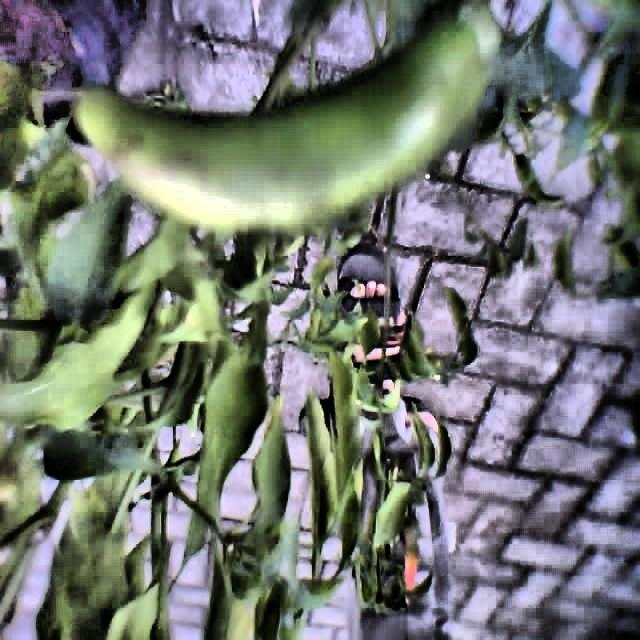Cabai: (61, 20, 516, 250)
